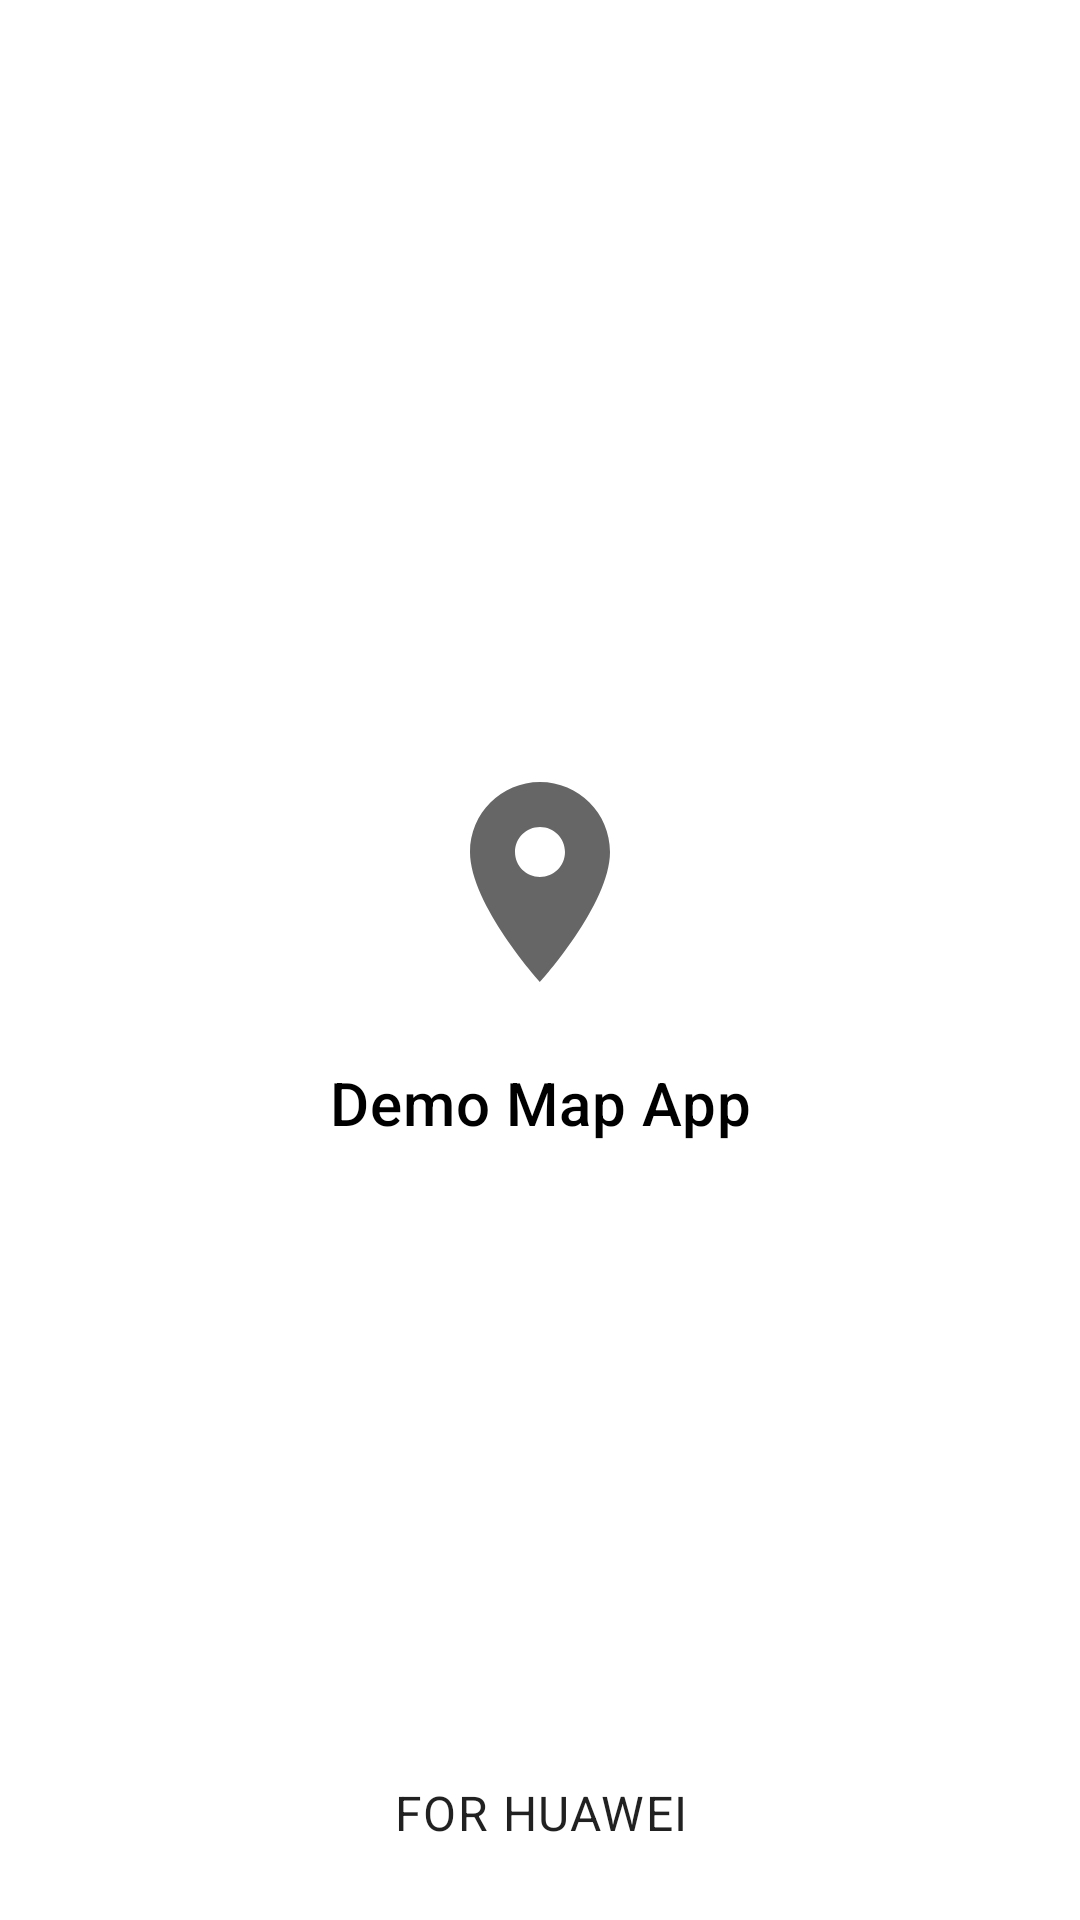

Named icons in this screenshot (1080 x 1920) and their centers, [x,y]:
location: [540,882]
